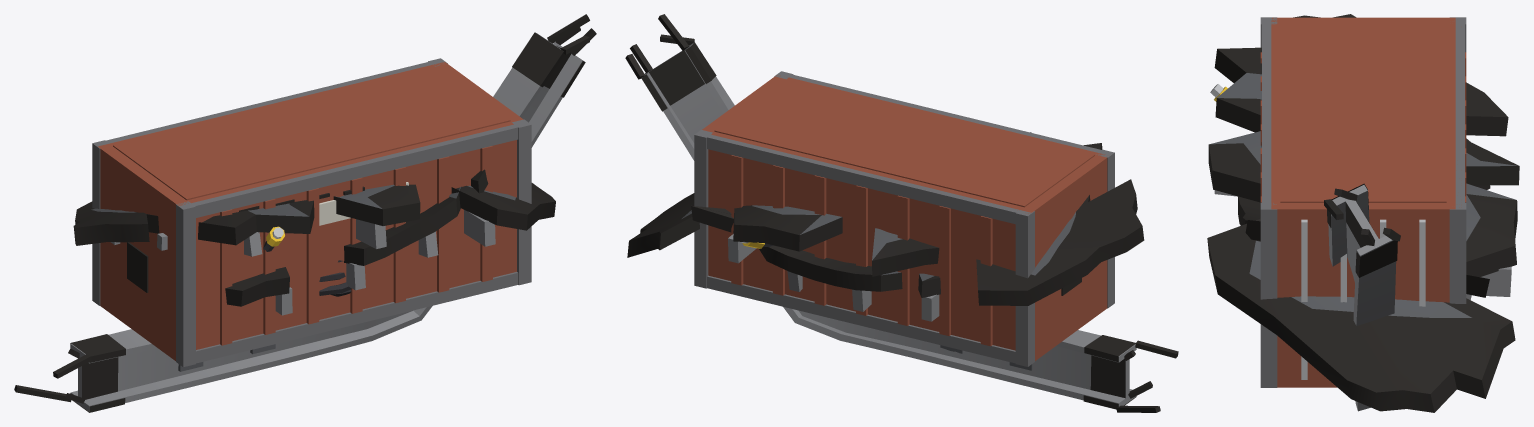
File: bay_props.glb
3 views of the same model, side by side, from view 1: azimuth 30°, elevation 25°; view 2: azimuth 150°, elevation 25°; view 3: azimuth 270°, elevation 25° (orthographic). The views are drawn at different scales.
Parts seen in each view (by area): view 1: container, rib, panel1, panel0, cable; view 2: container, rib, panel1, panel0; view 3: container, panel1, rib, panel0.
Part boxes in pixels (x1,y1,x2,y2): container: (92, 58, 531, 367); rib: (14, 14, 596, 412); panel1: (73, 183, 555, 256); panel0: (225, 169, 488, 315); cable: (263, 226, 351, 296); container: (694, 71, 1114, 366); rib: (625, 14, 1178, 412); panel1: (627, 132, 1144, 305); panel0: (691, 206, 940, 321); container: (1260, 17, 1466, 387); panel1: (1207, 14, 1519, 412); rib: (1324, 183, 1400, 411); panel0: (1238, 185, 1490, 299).
Size of the model in its own units: 9.79 by 4.63 by 4.13.
